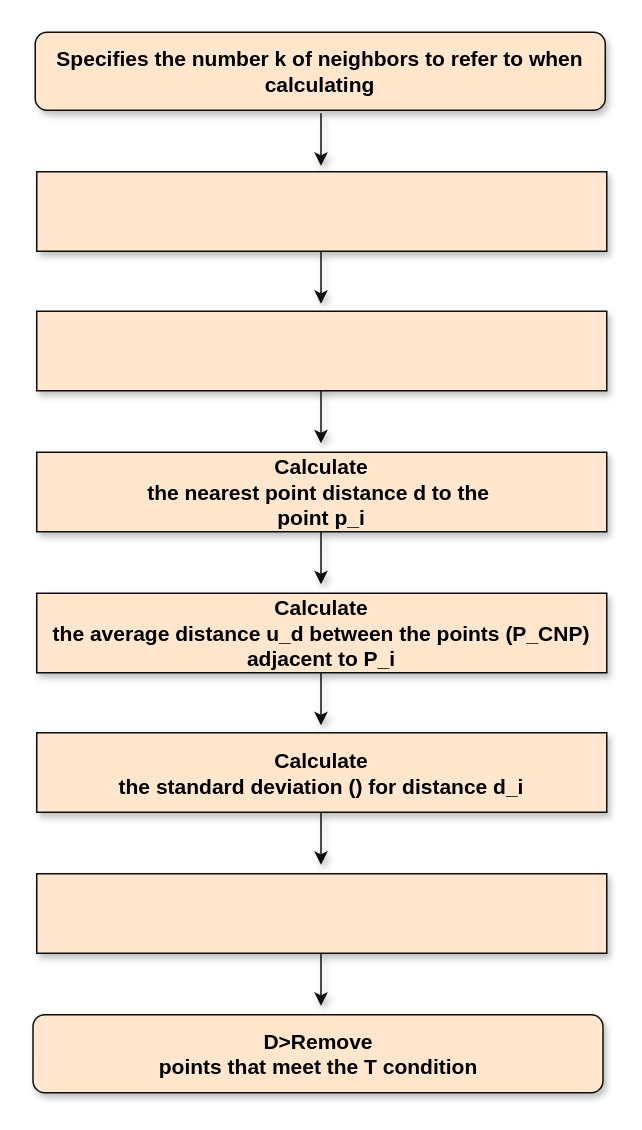
The diagram is 642 pixels wide and 1130 high, and some of its shapes have lost their labels. Each missing label, with the centre of its shape:
Allow threshold T_g = … Calculate the . mean + stddev_mult * stddev: pixel 322 915
Find the nearest neighbor (P_TCP) of each point p_i: pixel 322 352
Specify the standard deviation multiplier a: pixel 322 213
